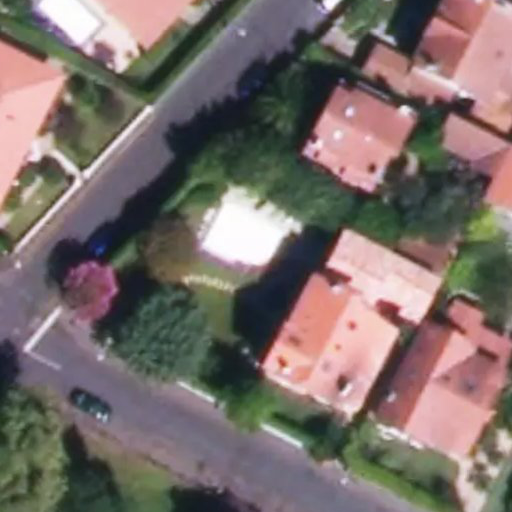pool: (214, 240, 297, 243)
